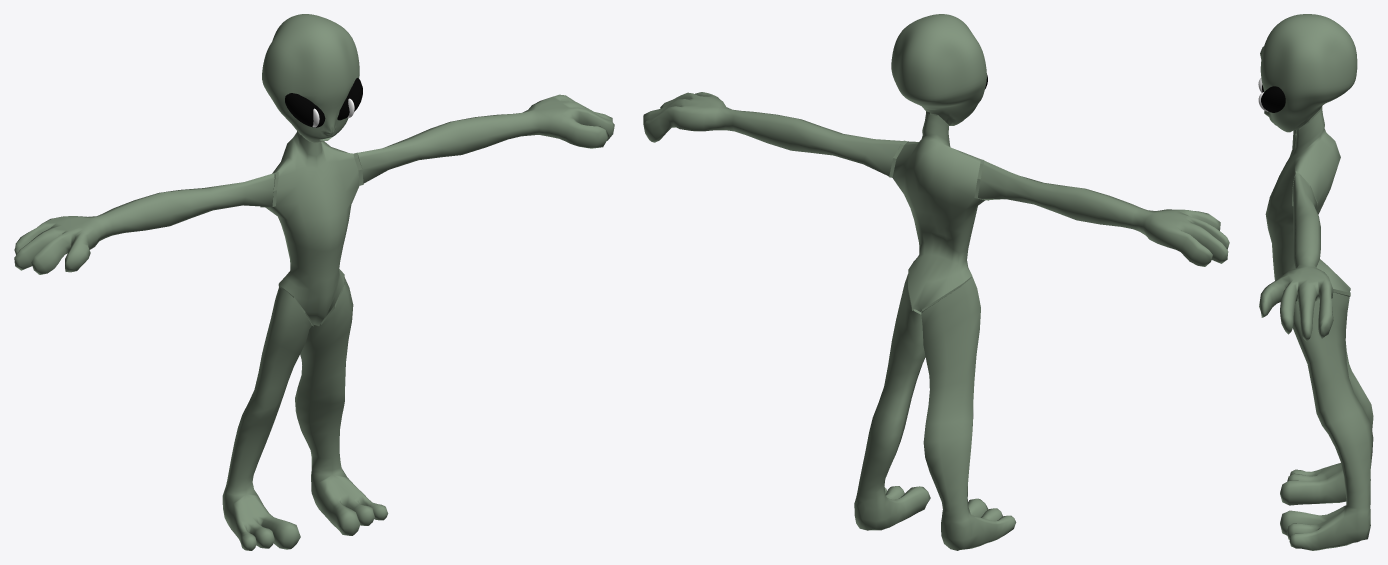
File: SeparateGreenAlien.fbx
3 renders of one model, left to right at view 1: azimuth 30°, elevation 25°; view 2: azimuth 150°, elevation 25°; view 3: azimuth 270°, elevation 25°, orthographic. The views are drawn at different scales.
Visible parts, largest first — view 1: torso, leftLeg, rightLeg, rightArm, head, leftArm, fulleye; view 2: rightLeg, torso, leftLeg, rightArm, head, leftArm; view 3: leftLeg, head, torso, leftArm, rightLeg, fulleye2.
Part boxes in pixels (<box>): torso: <box>260,131,363,326</box>; leftLeg: <box>295,277,388,535</box>; rightLeg: <box>222,287,311,550</box>; rightArm: <box>14,173,274,274</box>; head: <box>262,14,359,142</box>; leftArm: <box>357,94,614,183</box>; fulleye: <box>285,93,325,127</box>; rightLeg: <box>921,277,1016,550</box>; torso: <box>888,111,989,312</box>; leftLeg: <box>854,274,930,530</box>; rightArm: <box>978,161,1229,266</box>; head: <box>891,14,986,125</box>; leftArm: <box>643,92,902,176</box>; leftLeg: <box>1280,292,1373,550</box>; head: <box>1260,14,1357,132</box>; torso: <box>1265,106,1350,296</box>; leftArm: <box>1259,173,1333,341</box>; rightLeg: <box>1280,341,1373,505</box>; fulleye2: <box>1261,86,1285,112</box>.
Size of the model in its own units: 255 by 211 by 43.57.
